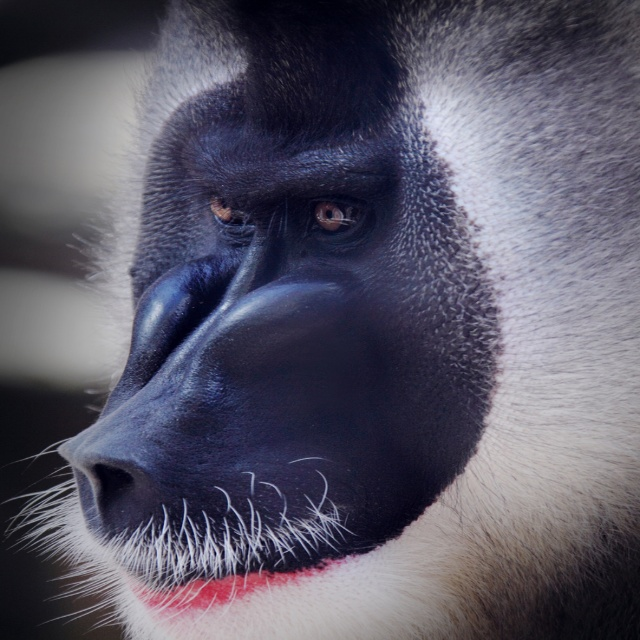Monkey: (63, 29, 632, 640)
